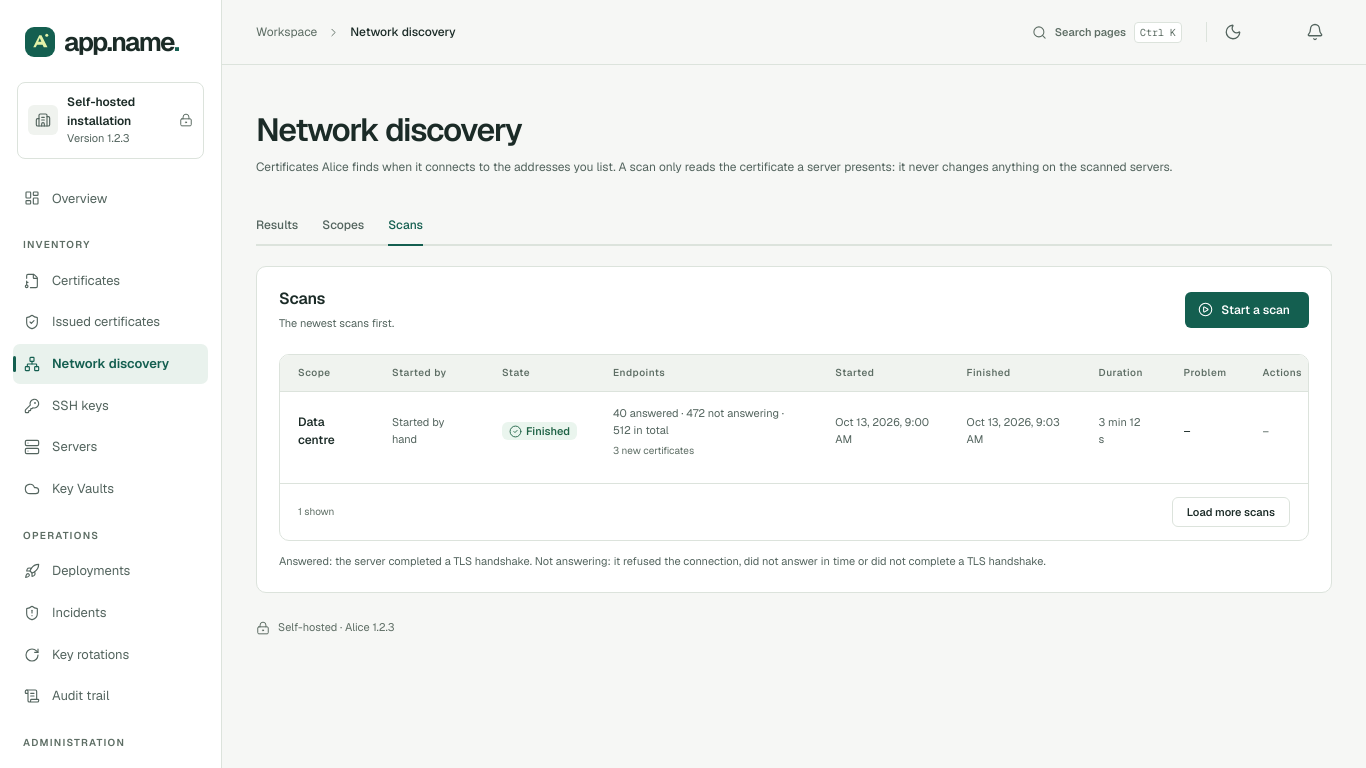
Test case: Network discovery scans (review round) › shows an older page that cannot be read
The width and height of the screenshot is (1366, 768).
Click the button "Load more scans": (1231, 512) [1172, 497, 1290, 527]
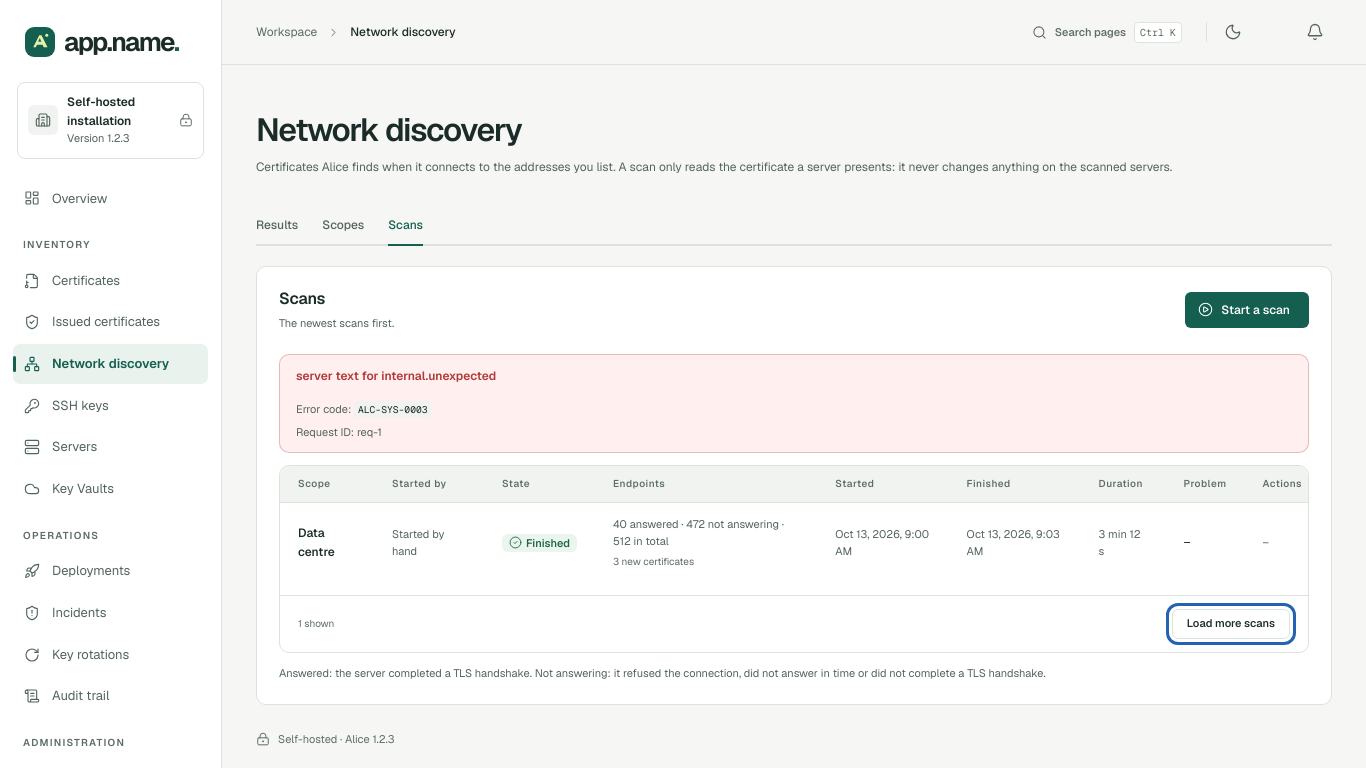
Expected: the text "ALC-SYS-0003" is shown, [354, 401, 432, 418]
